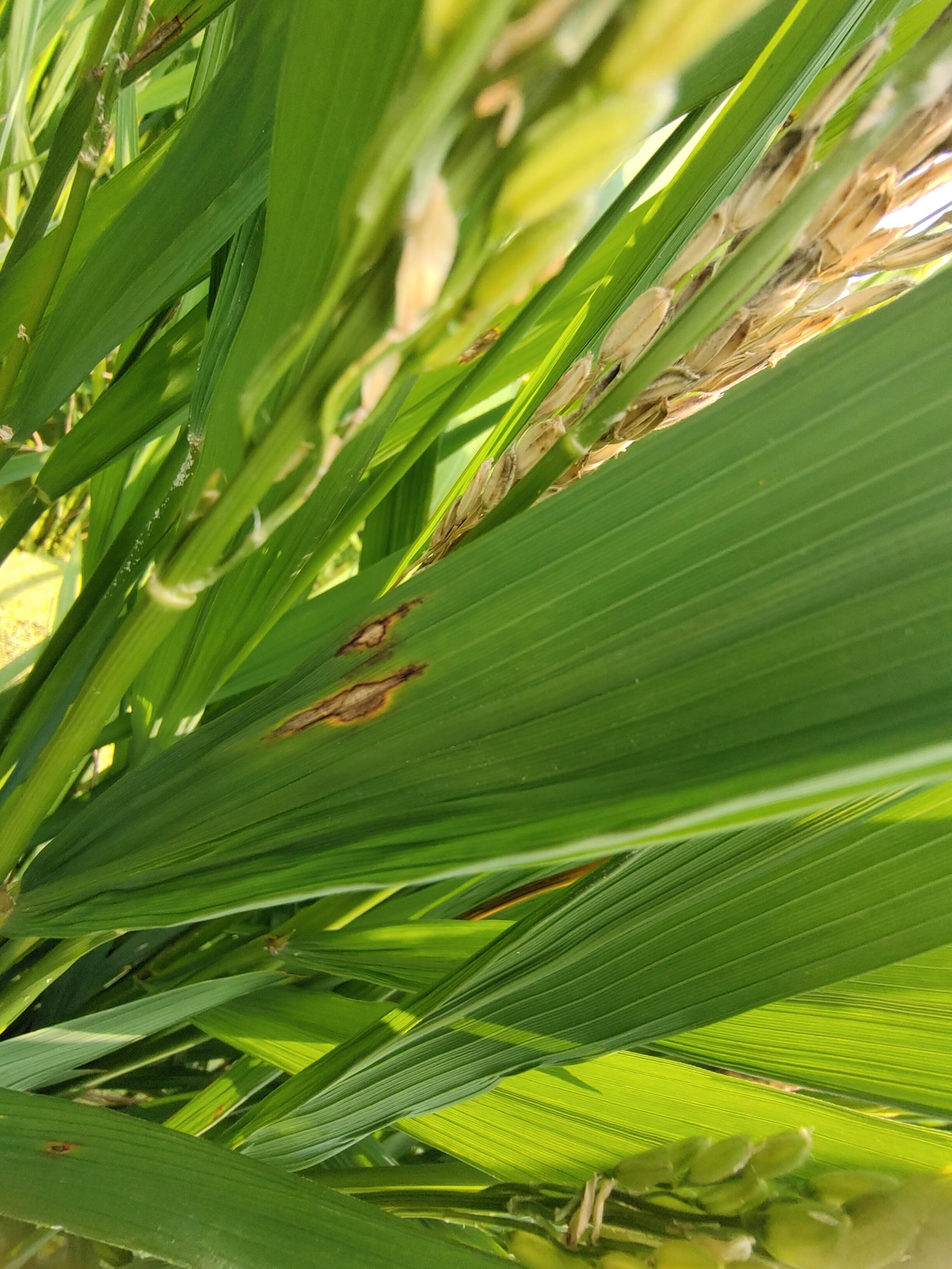LEAF: (0, 261, 952, 944)
LEAF BLAST: (261, 664, 425, 743), (335, 599, 422, 656)
